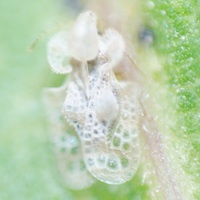insect: (44, 3, 199, 199), (47, 11, 141, 183), (157, 15, 199, 82)
